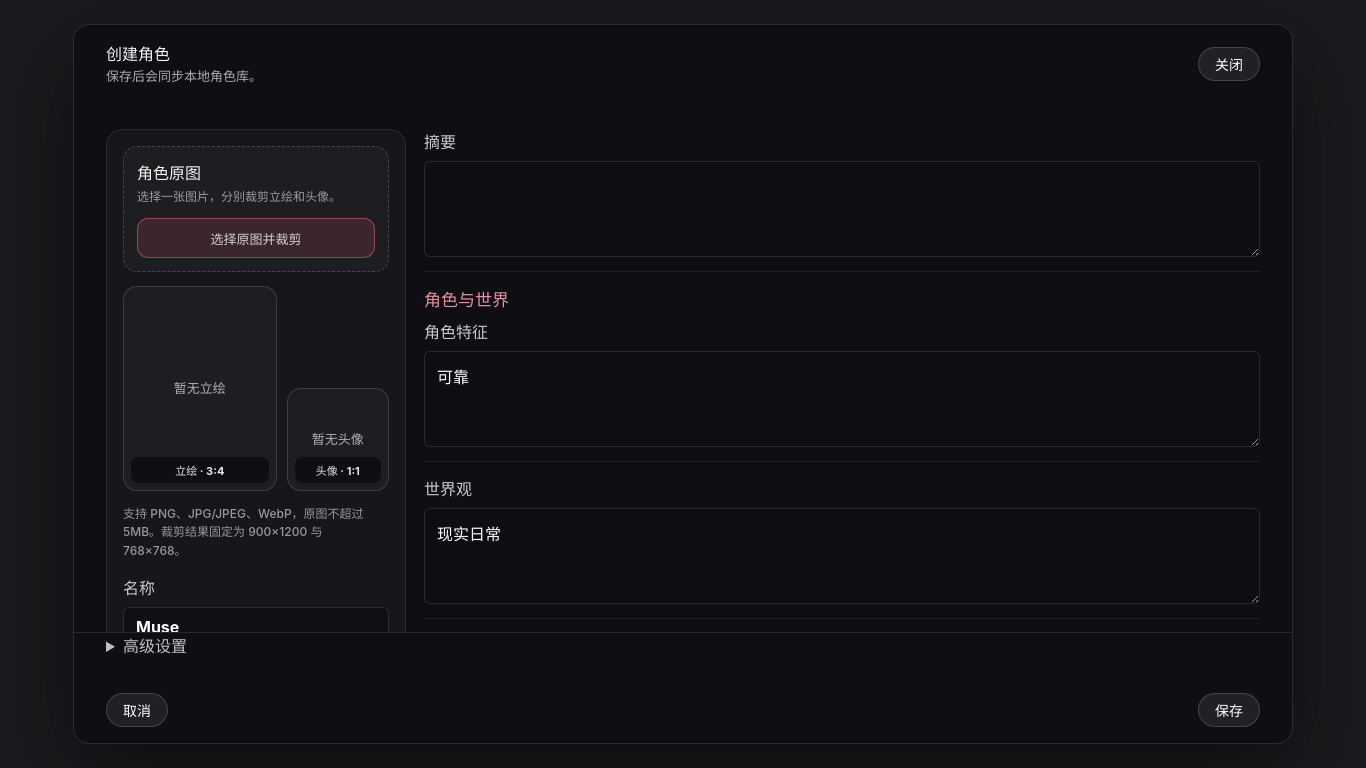
Scenario: PersonaEditorDialog › 后端字段错误会映射到表单并保留编辑器用于修正重试
Click the button "保存": (1229, 710) [1198,693,1260,727]
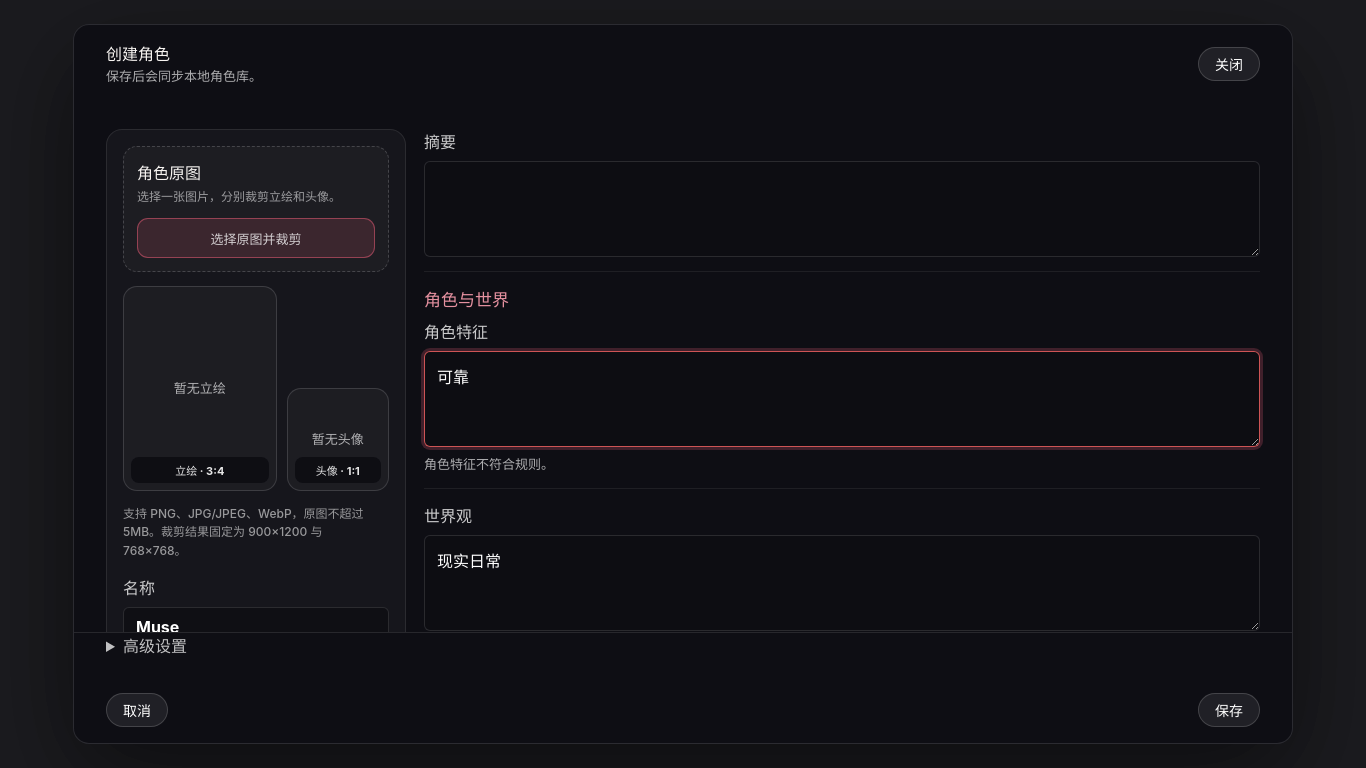
Expected: the message reads "角色特征不符合规则。", [424,456,554,472]
